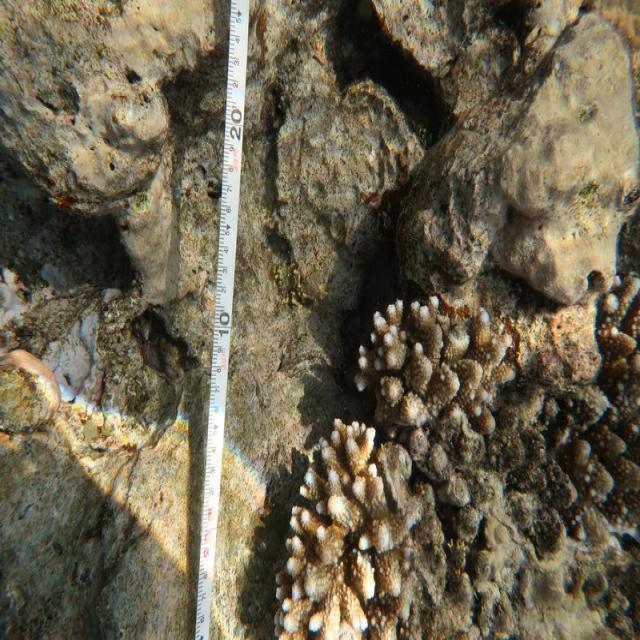Healthy Coral: (284, 438, 424, 638), (366, 288, 518, 431)
